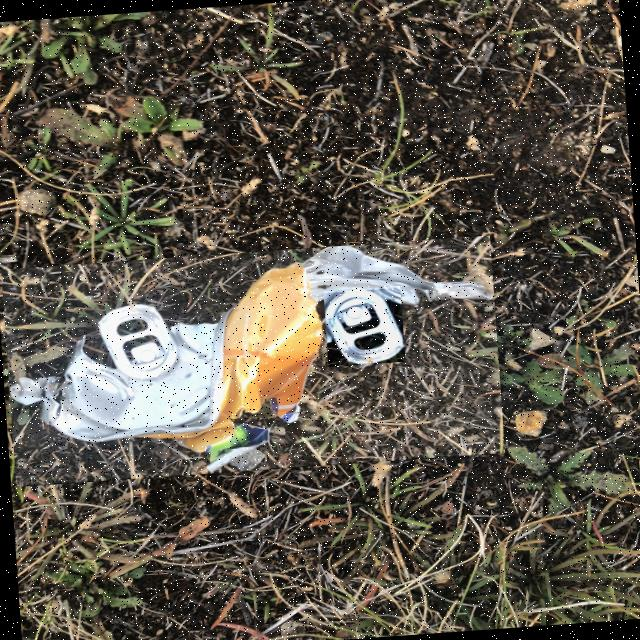Drink can: (9, 246, 494, 472)
Pop tab: (325, 290, 404, 364)
